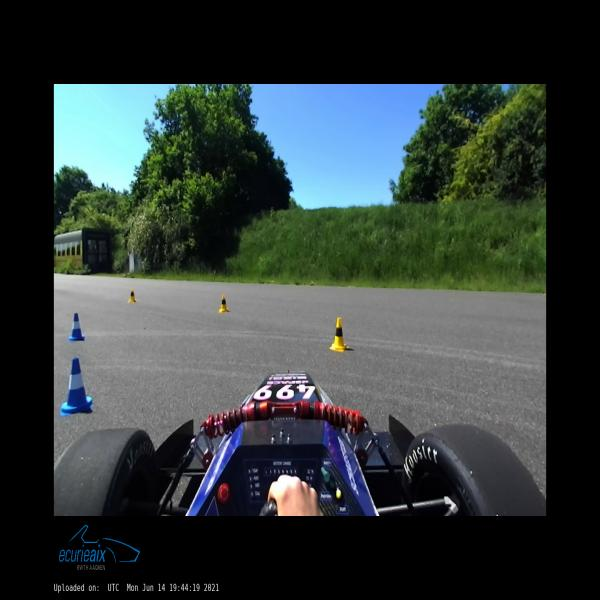blue_cone: (61, 358, 93, 416), (68, 313, 84, 341)
yellow_cone: (329, 318, 348, 352), (219, 295, 229, 312), (128, 289, 137, 302)
